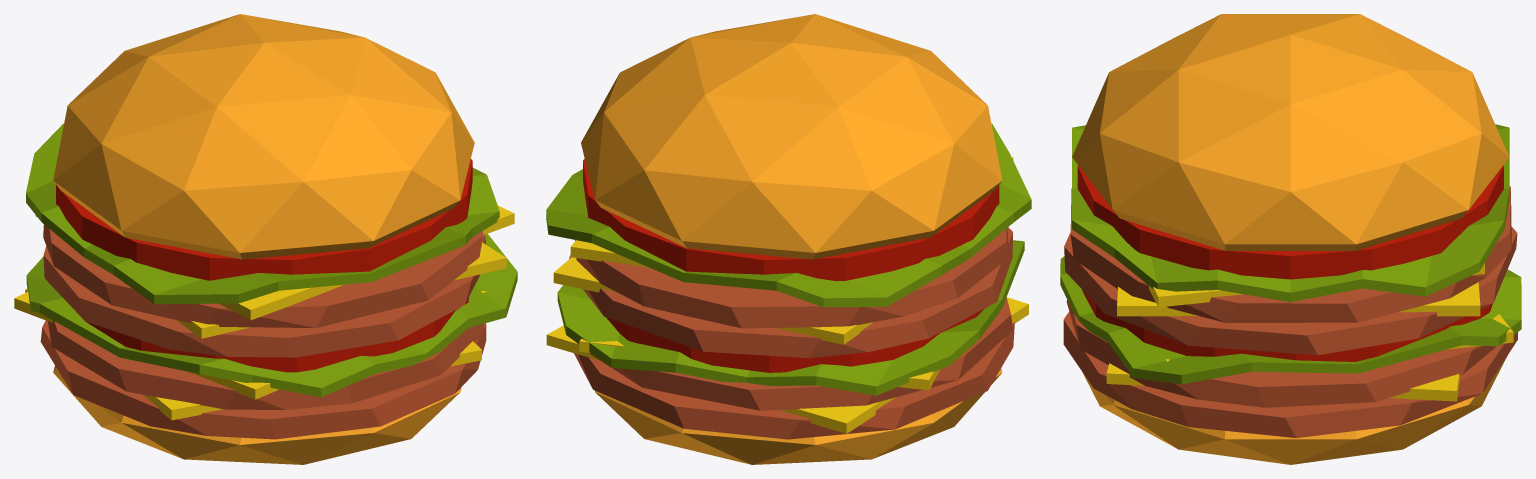
The model's file is burger-export.glb.
The picture shows the model from 3 angles, left to right: view 1: azimuth 30°, elevation 25°; view 2: azimuth 150°, elevation 25°; view 3: azimuth 270°, elevation 25°; orthographic projection.
Visible parts, largest first — view 1: Top Bun, lechuga, Cube.005, Cube.001, lechuga.001, Cube.007, Cube.003, Totibatons, Bottom Bun, Totibatons.001, Cube.006, Cube.004 (+2 smaller); view 2: Top Bun, lechuga, Cube.007, lechuga.001, Cube.005, Cube.001, Totibatons, Bottom Bun, Cube.003, Totibatons.001, Cube, Cube.004 (+2 smaller); view 3: Top Bun, lechuga, Cube.001, lechuga.001, Cube.005, Totibatons, Cube.003, Cube.007, Bottom Bun, Totibatons.001, Cube.004, Cube (+1 smaller).
Boxes of the visible parts, x1,y1,x2,y2 form: Top Bun: (53,14,474,259); lechuga: (26,123,499,304); Cube.005: (43,235,486,357); Cube.001: (40,320,486,439); lechuga.001: (26,233,517,397); Cube.007: (43,224,483,327); Cube.003: (48,320,484,409); Totibatons: (56,159,472,280); Bottom Bun: (53,365,461,464); Totibatons.001: (86,297,468,372); Cube.006: (219,205,514,320); Cube.004: (35,215,506,338); Top Bun: (581,14,1002,259); lechuga: (546,124,1031,307); Cube.007: (575,228,1009,328); lechuga.001: (557,240,1024,395); Cube.005: (569,227,1012,358); Cube.001: (574,322,1014,439); Totibatons: (583,159,999,281); Bottom Bun: (594,368,1002,464); Cube.003: (588,297,1012,410); Totibatons.001: (606,308,984,372); Cube: (546,297,1028,433); Cube.004: (553,257,872,344); Top Bun: (1072,14,1509,250); lechuga: (1072,124,1509,301); Cube.001: (1063,311,1517,437); lechuga.001: (1060,256,1521,384); Cube.005: (1064,226,1517,355); Totibatons: (1077,165,1503,279); Cube.003: (1066,299,1496,407); Cube.007: (1070,186,1511,322); Bottom Bun: (1082,357,1506,464); Totibatons.001: (1082,290,1492,361); Cube.004: (1117,282,1480,316); Cube: (1106,363,1460,401).
Size of the model in its own units: 2.13 by 1.84 by 2.06.
